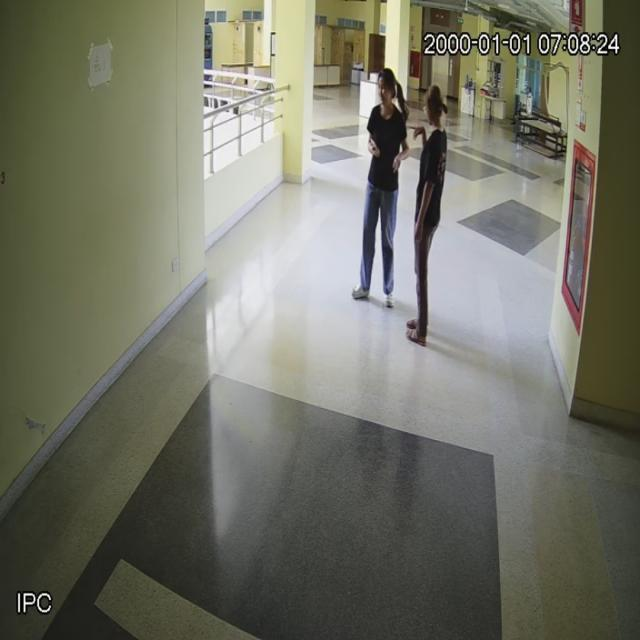normal: (353, 70, 407, 308), (408, 87, 451, 345)
